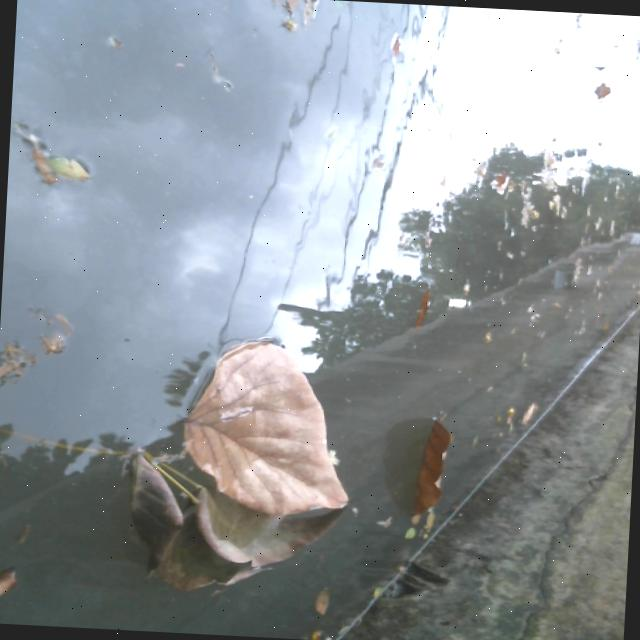Big-leaf: (123, 327, 355, 599), (394, 425, 455, 537)
Small-leaf: (6, 106, 109, 199), (483, 398, 555, 445), (252, 0, 331, 32), (301, 578, 336, 640), (399, 292, 441, 342), (0, 564, 28, 621)
